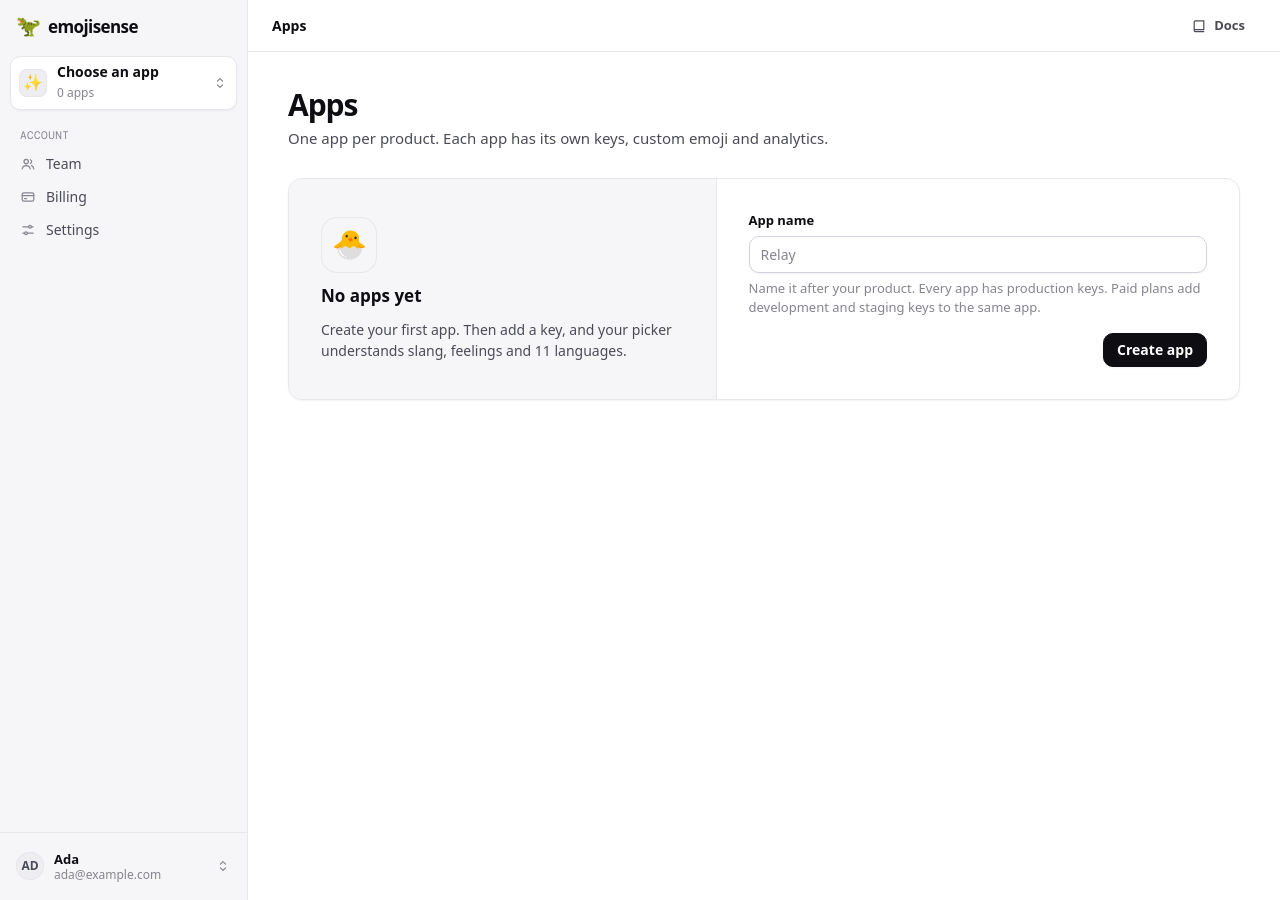
Test case: plan gates › offers no plan when the API names one that is not on sale for more apps
Type "Fourth" into the field labelled "App name" at (978, 254), box [748,236,1207,273]
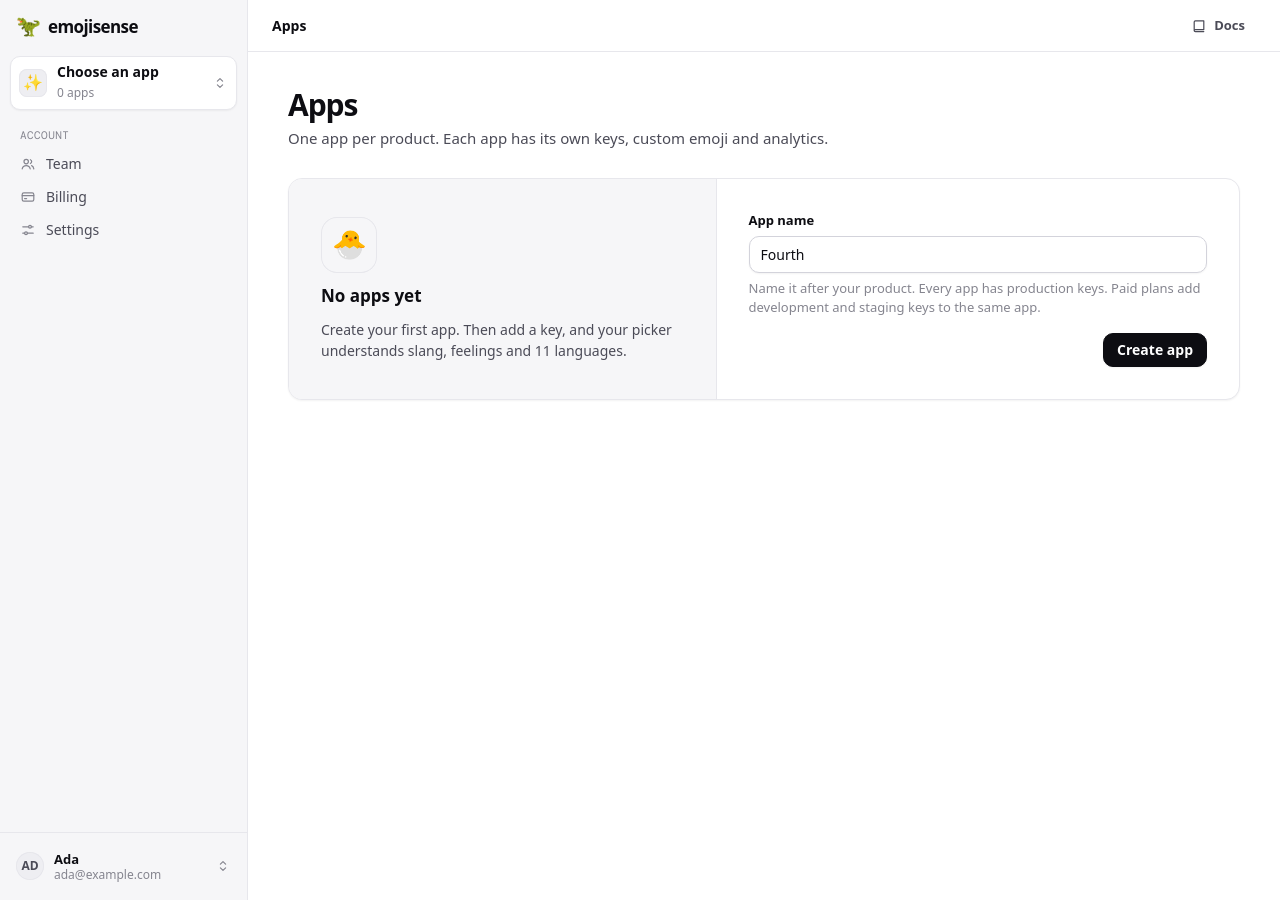
Click the button "Create app" at (1155, 350), box [1103,333,1207,367]
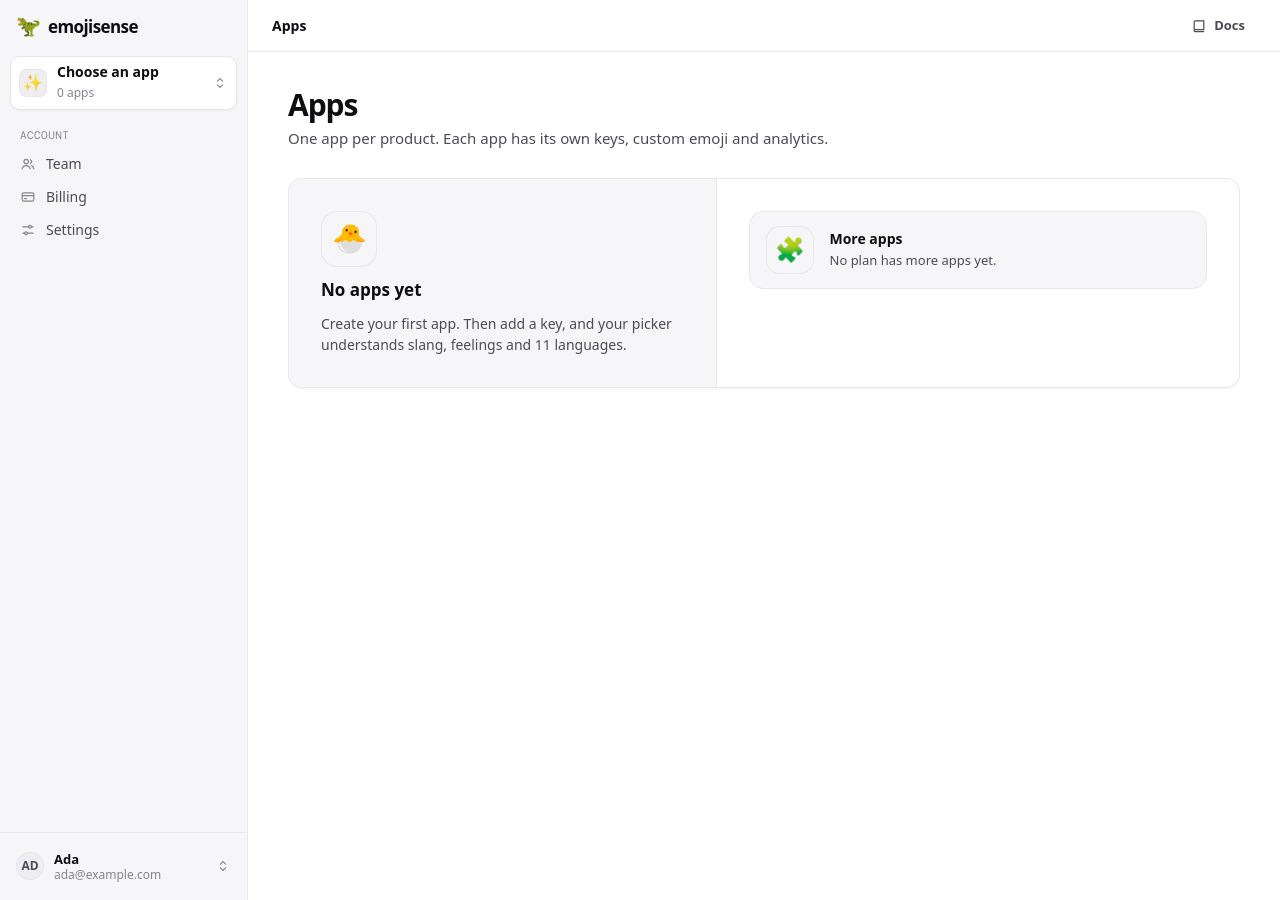
Check: the element "More apps" shows "No plan has more apps yet.", box [830,251,996,269]
